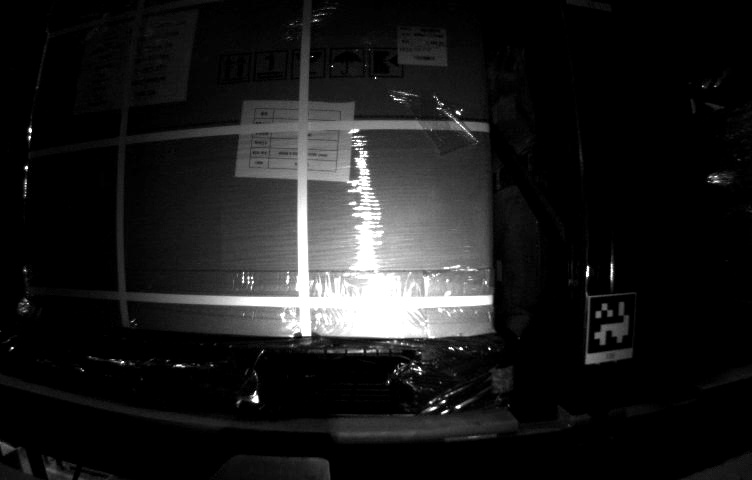True Barcode: (399, 24, 447, 65)
